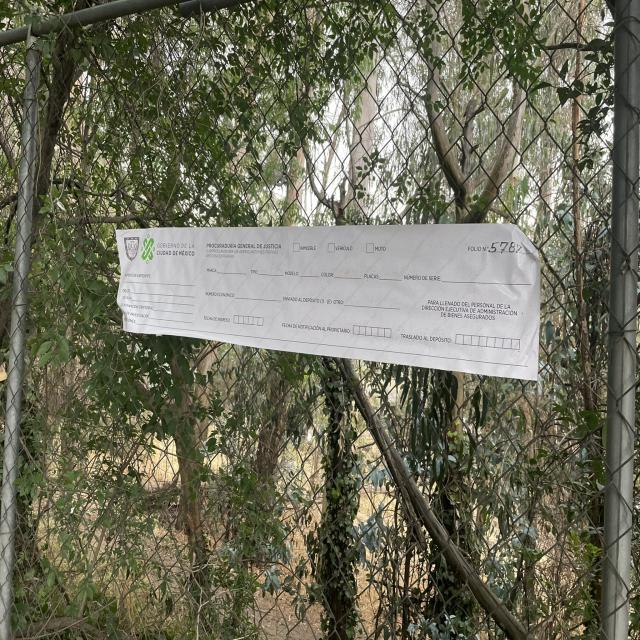stamps: (118, 229, 539, 380)
